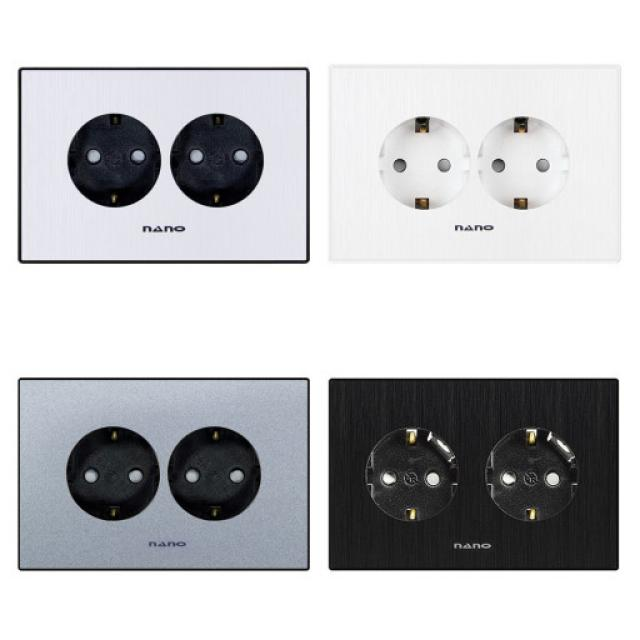typeb: (6, 58, 316, 287), (322, 53, 624, 280), (23, 362, 322, 578), (319, 363, 632, 568)
